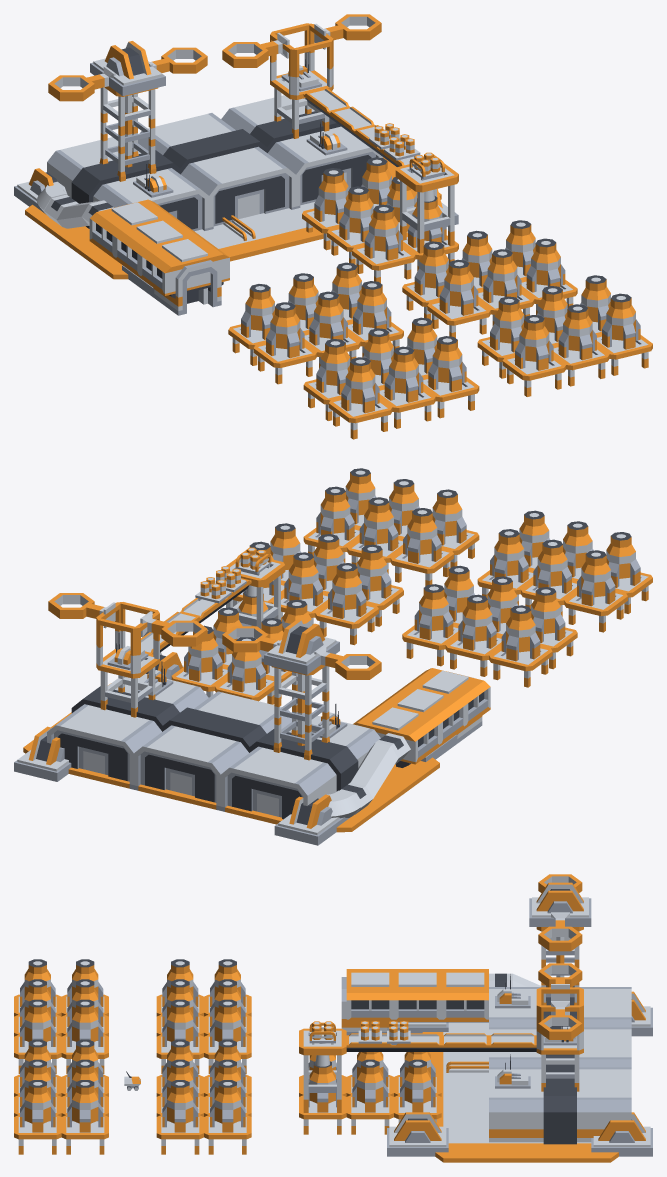
Rendered from dechargement.glb.
3 renders of one model, top to bottom at view 1: azimuth 30°, elevation 25°; view 2: azimuth 150°, elevation 25°; view 3: azimuth 270°, elevation 25°, orthographic. The views are drawn at different scales.
Visible parts, largest first — view 1: mergedBlocks(Clone); view 2: mergedBlocks(Clone); view 3: mergedBlocks(Clone).
Part boxes in pixels (bbox=[...]): mergedBlocks(Clone): bbox=[14, 14, 652, 439]; mergedBlocks(Clone): bbox=[14, 468, 652, 845]; mergedBlocks(Clone): bbox=[14, 874, 652, 1162].
Size of the model in its own units: 7.56 by 3.68 by 13.45.
1 material, 1 textured.
